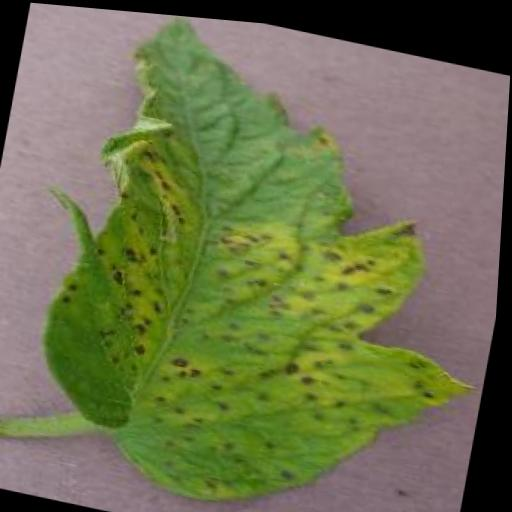Septoria: (26, 3, 512, 512)
